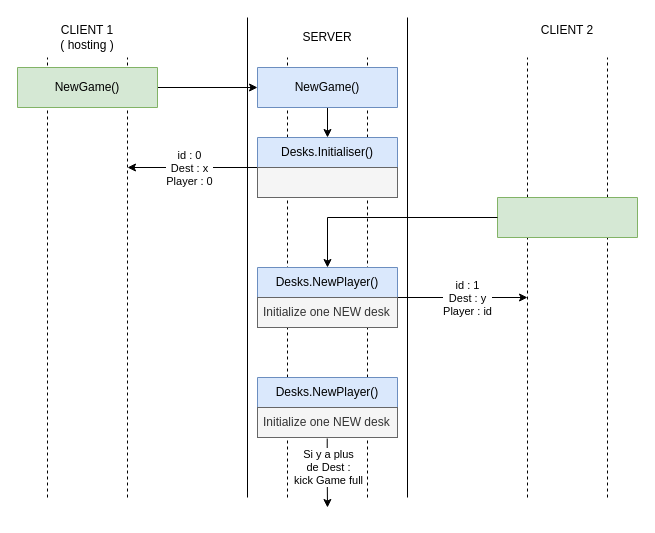
Some shapes in this 655 by 533 pixel diagram are drawn without their labels. Each missing label, with the centre of its shape:
"Initialize one desk" goes at (327,182).
"JoinGame()" goes at (567,217).
